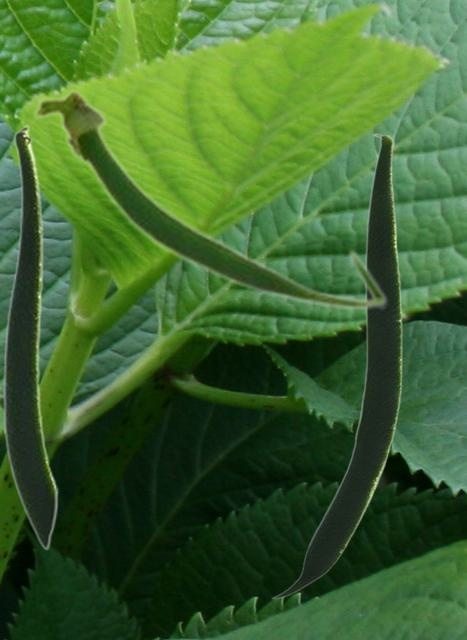french_bean: (31, 86, 388, 311), (271, 133, 401, 598), (2, 124, 58, 550)
